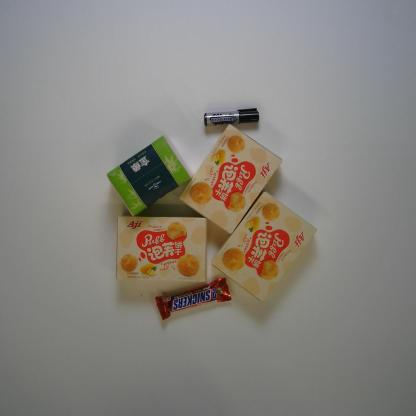Chocolate: (153, 274, 232, 323)
Dessert: (208, 188, 319, 304), (178, 122, 284, 235), (113, 215, 210, 284)
Stationery: (201, 106, 262, 130)
Tissue: (105, 135, 194, 217)
